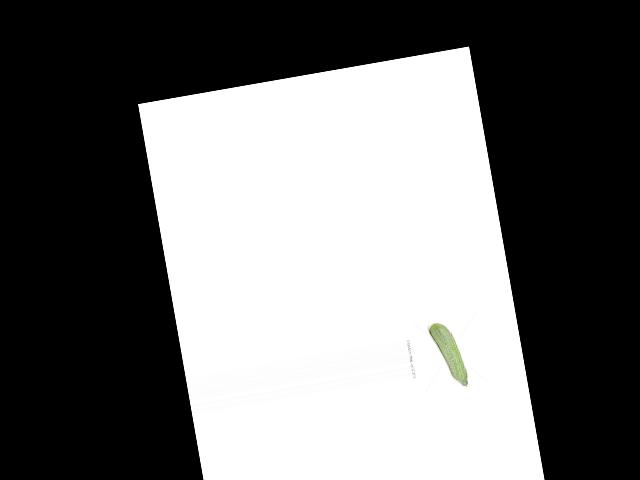cucumber: (428, 320, 469, 392)
